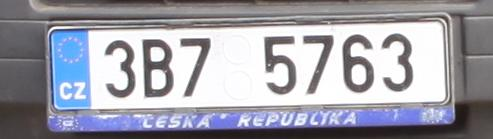3: (105, 40, 135, 99), (383, 34, 413, 92)
5: (265, 36, 296, 94)
6: (343, 35, 375, 94)
7: (180, 38, 212, 96), (303, 36, 334, 95)
B: (143, 39, 173, 98)
